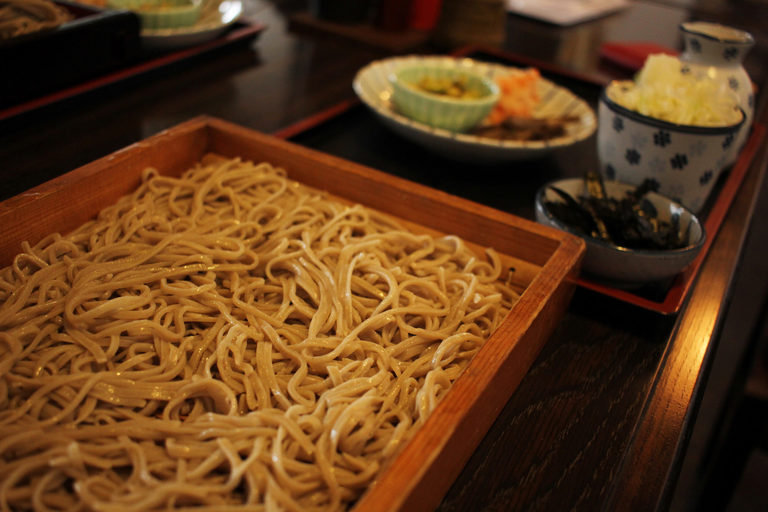Soba: (1, 156, 516, 512)
